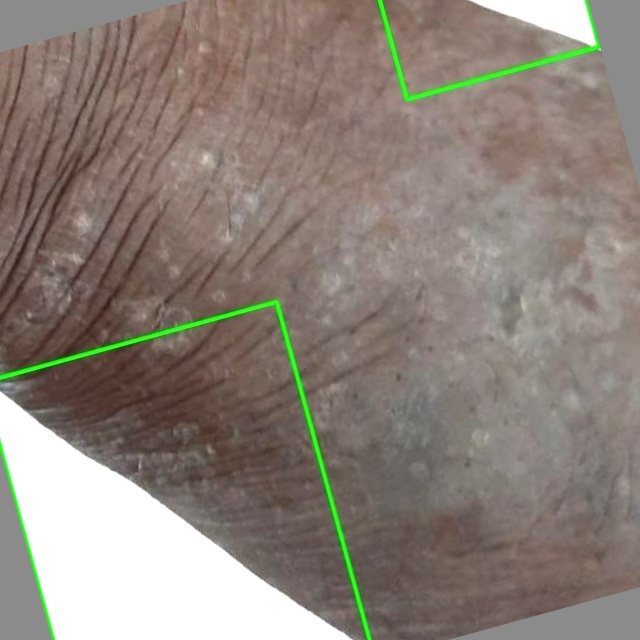Contact Dermatitis: (0, 301, 369, 639)
